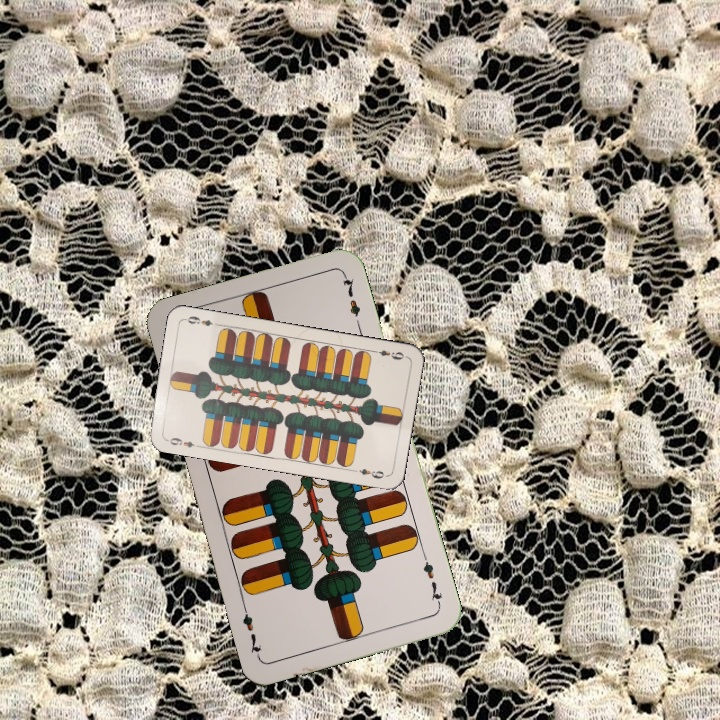E7: (419, 551, 445, 609)
E9: (162, 433, 202, 450), (368, 346, 406, 362)
